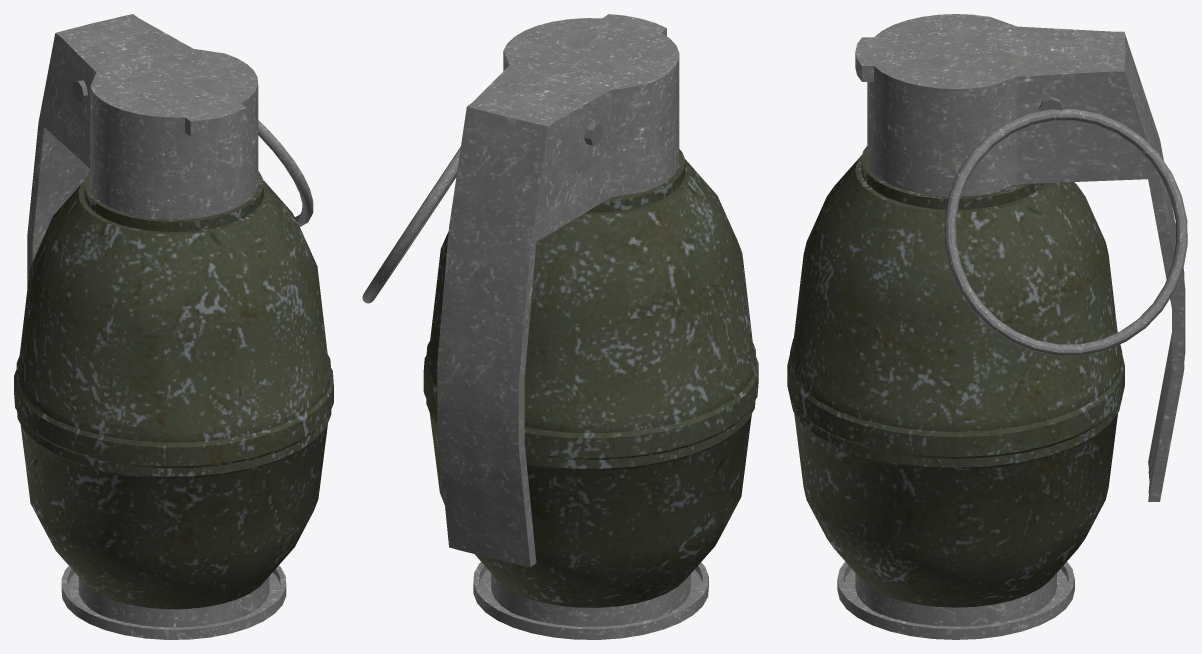
Rendered from HEgrenade.fbx.
3 views of the same model, side by side, from view 1: azimuth 30°, elevation 25°; view 2: azimuth 150°, elevation 25°; view 3: azimuth 270°, elevation 25° (orthographic). The views are drawn at different scales.
Visible parts, largest first — view 1: Cylinder, Torus; view 2: Cylinder, Torus; view 3: Cylinder, Torus.
Boxes of the visible parts, <box> form: Cylinder: <box>14,14,333,639</box>; Torus: <box>72,80,313,226</box>; Cylinder: <box>423,14,758,639</box>; Torus: <box>362,123,602,303</box>; Cylinder: <box>787,14,1185,639</box>; Torus: <box>944,96,1187,355</box>.
Size of the model in its own units: 302 by 500 by 337.
